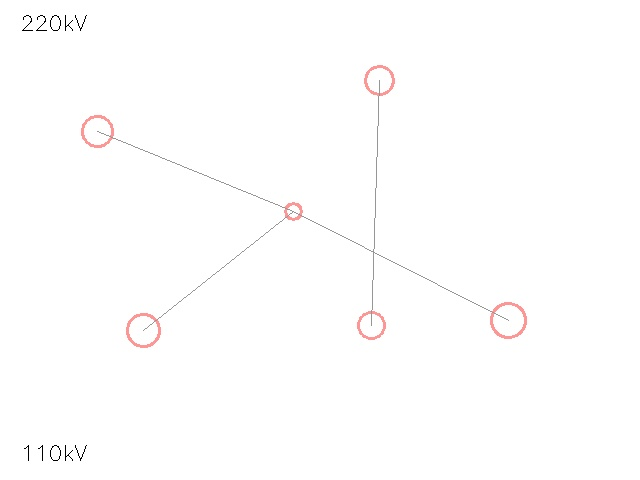feeder_terminal: (351, 52, 407, 108)
fuse: (474, 286, 542, 354), (111, 298, 175, 362)
reactor: (276, 194, 310, 228)
surge_arrester: (66, 100, 128, 162), (344, 298, 398, 352)
